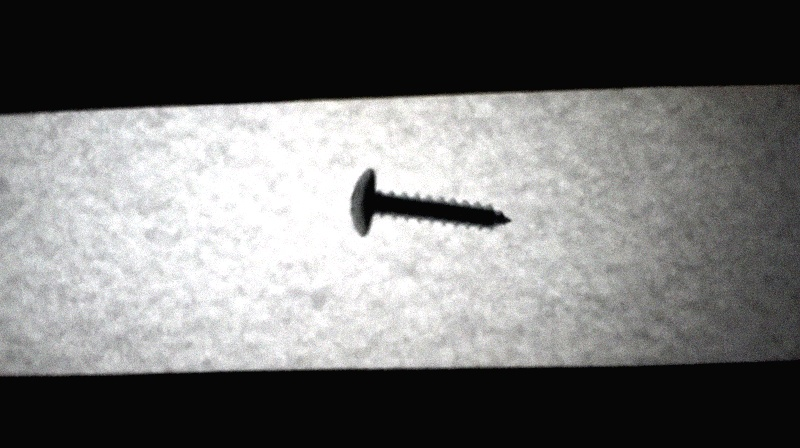S003: (345, 166, 516, 240)
